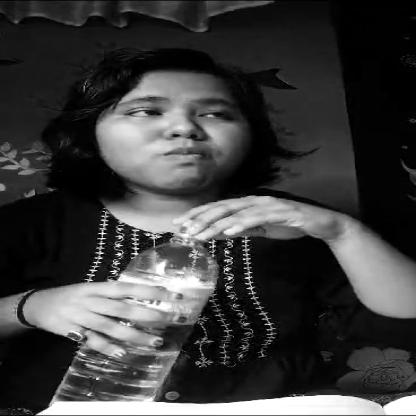Normal: (98, 66, 258, 196)
